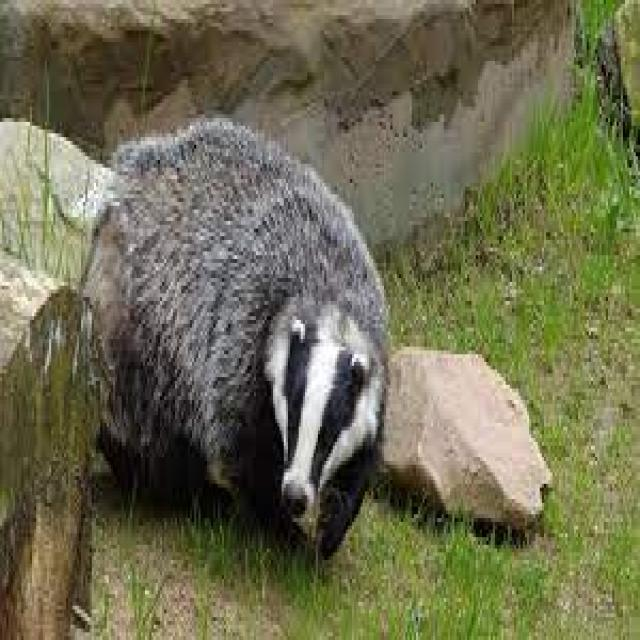badger: (78, 118, 390, 556)
